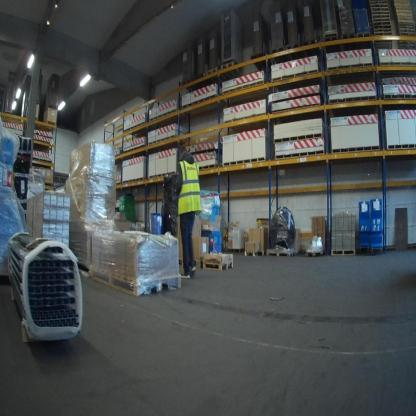pallets: (193, 144, 415, 171), (249, 28, 381, 64), (194, 57, 244, 83), (199, 259, 236, 274), (330, 248, 355, 255)
